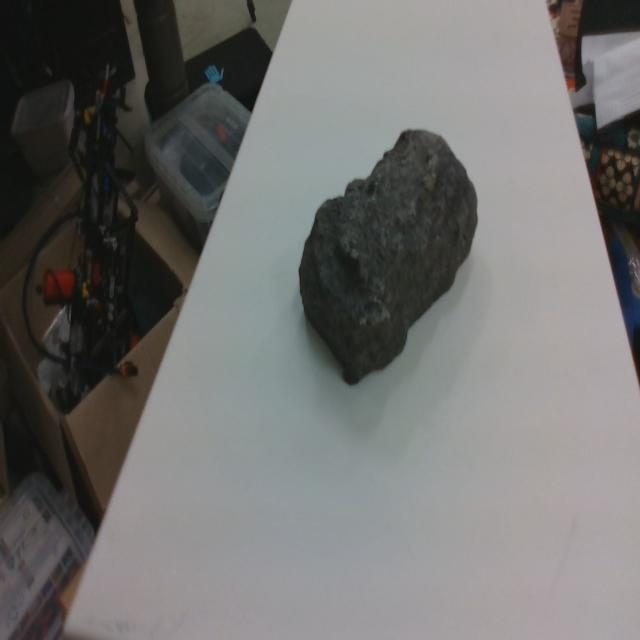stone: (300, 127, 478, 386)
